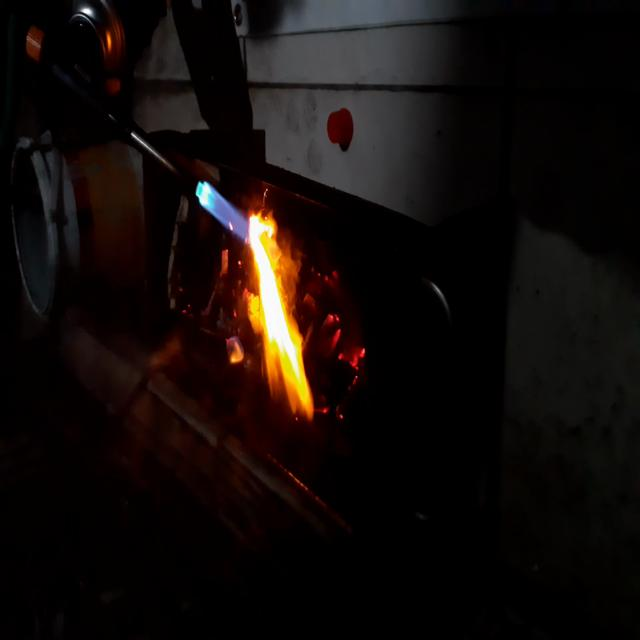Fire: (188, 162, 311, 448), (312, 270, 377, 452)
